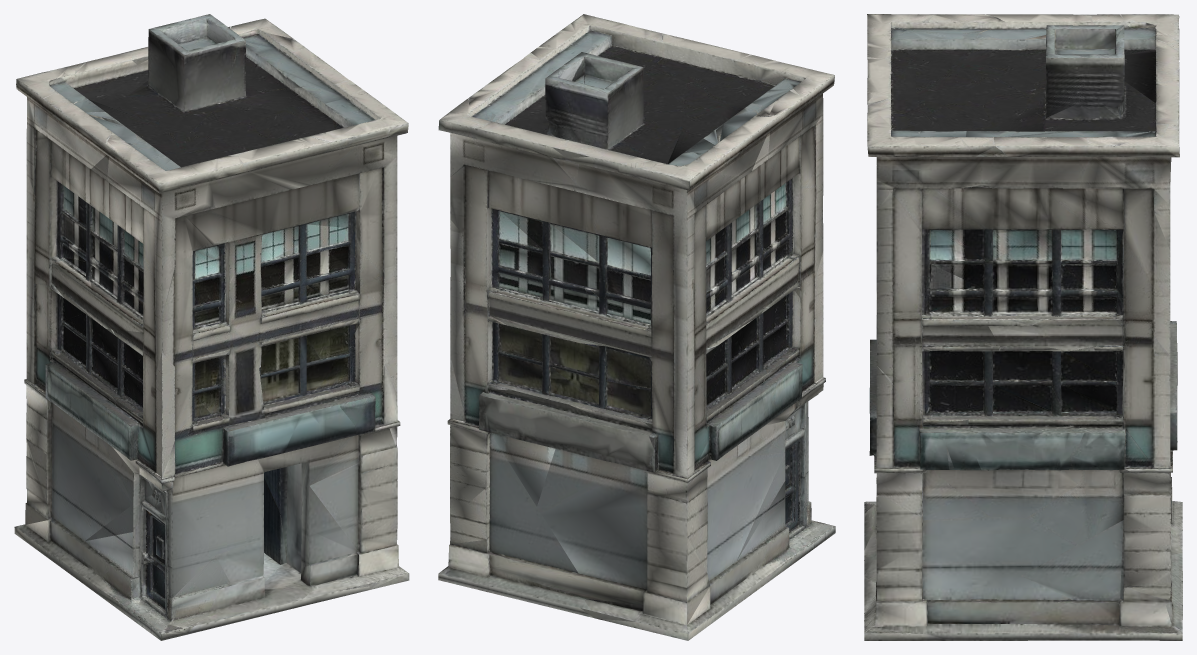
The model's file is arch_office_01.glb.
The picture shows the model from 3 angles, left to right: view 1: azimuth 30°, elevation 25°; view 2: azimuth 150°, elevation 25°; view 3: azimuth 270°, elevation 25°; orthographic projection. The views are drawn at different scales.
Parts seen in each view (by area): view 1: output_unwrapped; view 2: output_unwrapped; view 3: output_unwrapped.
Part boxes in pixels (x1=…): output_unwrapped: x1=14, y1=14, x2=409, y2=640; output_unwrapped: x1=438, y1=14, x2=835, y2=640; output_unwrapped: x1=864, y1=14, x2=1182, y2=640.
Size of the model in its own units: 5.24 by 10 by 5.34.
Materials: 1 (1 with a texture image).
